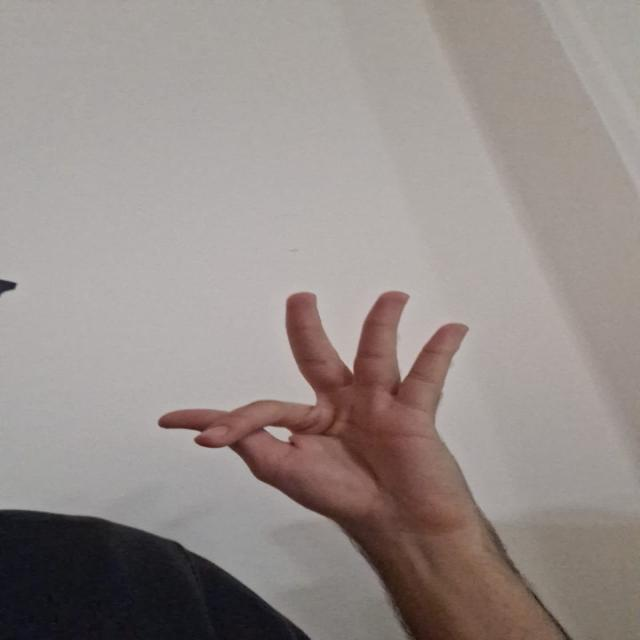F: (143, 282, 536, 535)
